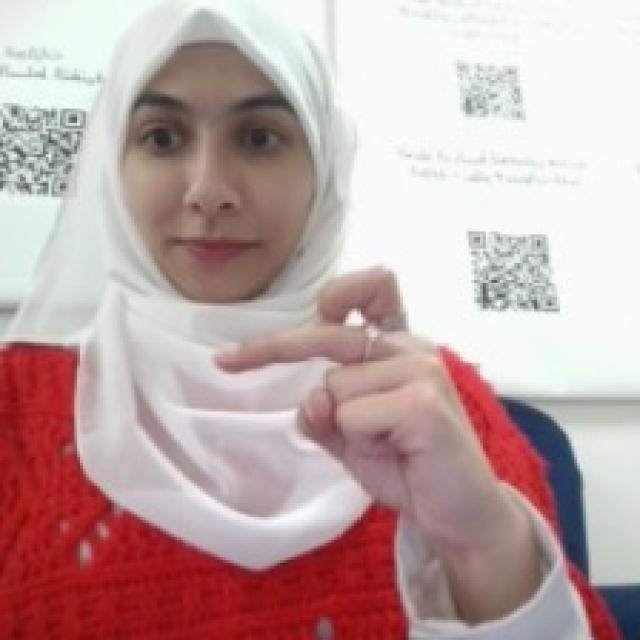sunday: (206, 249, 471, 497)
